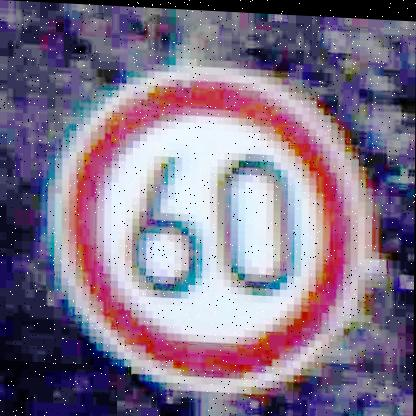Speed Limit -60-: (52, 60, 369, 397)
